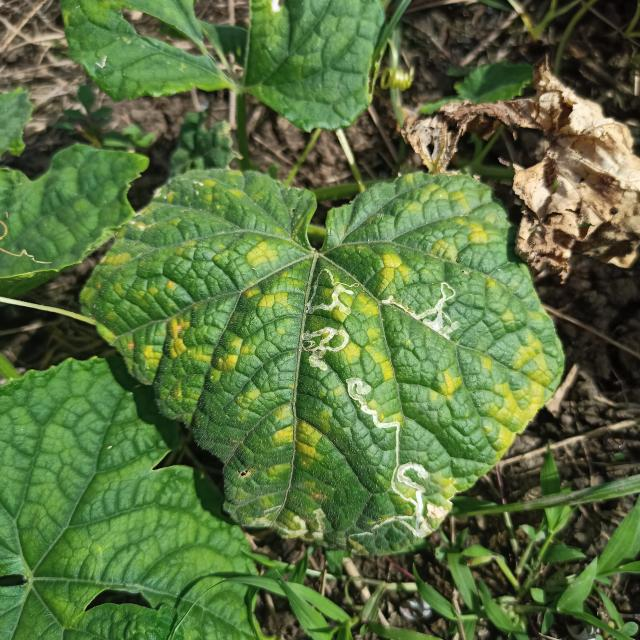disease_cucumber: (115, 171, 552, 554)
